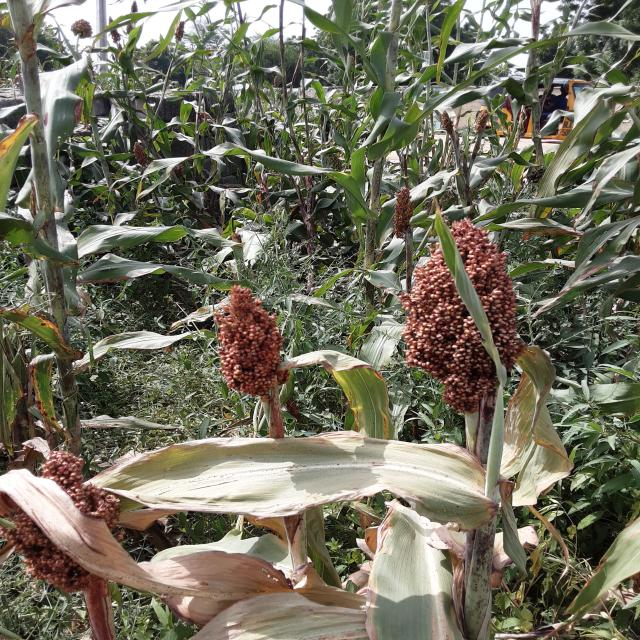RipeSorghum: (379, 212, 559, 443)
